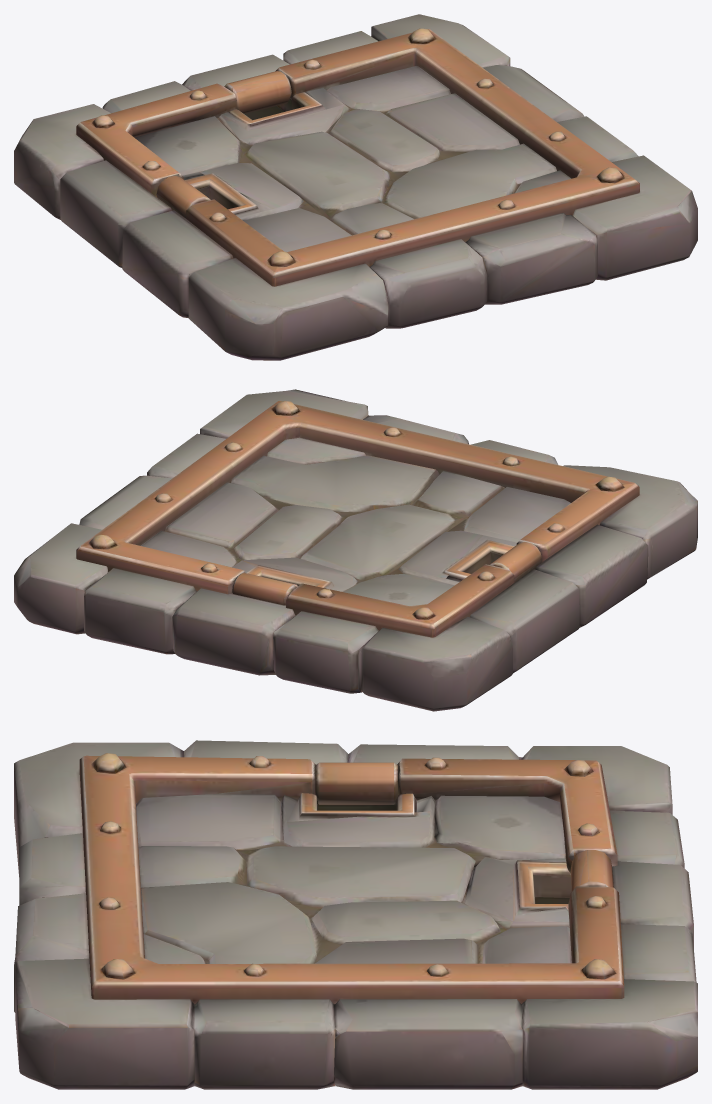
File: delve_pressure_plate.glb
The picture shows the model from 3 angles, top to bottom: view 1: azimuth 30°, elevation 25°; view 2: azimuth 150°, elevation 25°; view 3: azimuth 270°, elevation 25°; orthographic projection. The views are drawn at different scales.
Parts seen in each view (by area): view 1: tripo_node_b2d05a74-2862-424c-b254-7057706a7fad; view 2: tripo_node_b2d05a74-2862-424c-b254-7057706a7fad; view 3: tripo_node_b2d05a74-2862-424c-b254-7057706a7fad.
Boxes of the visible parts, bbox=[...] form: tripo_node_b2d05a74-2862-424c-b254-7057706a7fad: bbox=[14, 14, 697, 360]; tripo_node_b2d05a74-2862-424c-b254-7057706a7fad: bbox=[14, 389, 697, 711]; tripo_node_b2d05a74-2862-424c-b254-7057706a7fad: bbox=[14, 740, 697, 1089].
Size of the model in its own units: 0.9703 by 0.15 by 0.9703.
Materials: 1 (1 with a texture image).
